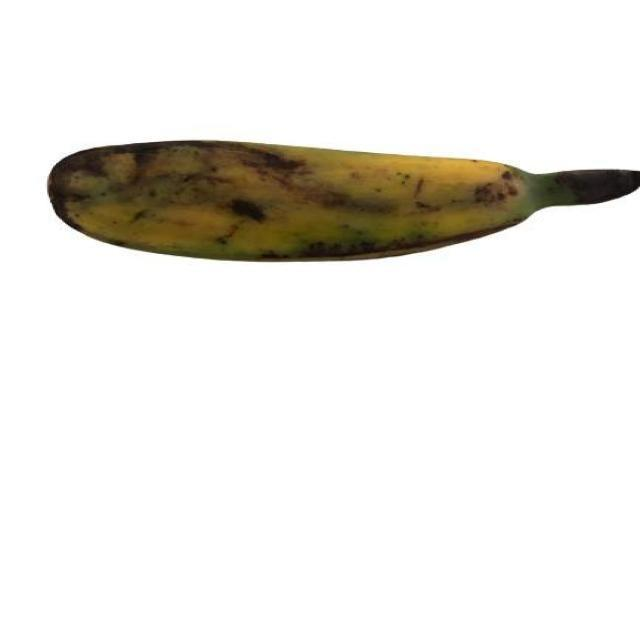Banana: (47, 132, 640, 268)
